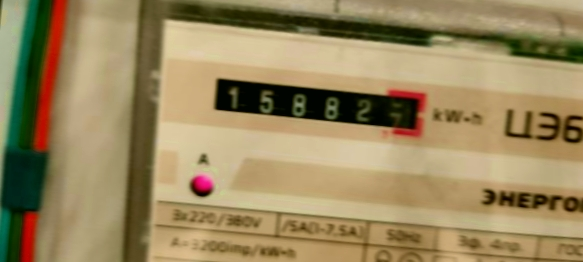1: (224, 87, 240, 113)
2: (353, 99, 371, 125)
5: (255, 90, 274, 117)
7: (386, 111, 402, 132)
8: (288, 94, 307, 122), (321, 97, 339, 123)
screen: (196, 63, 435, 152)
